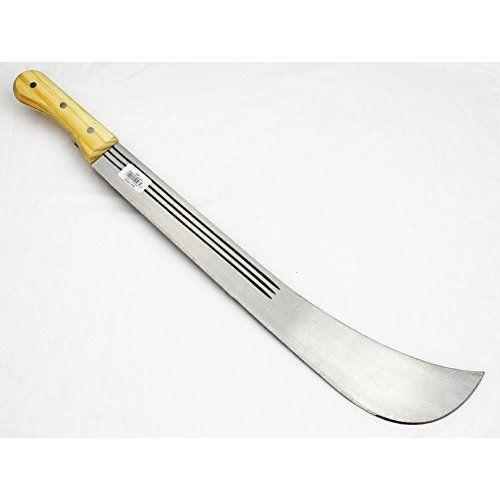facao: (15, 70, 484, 428)
